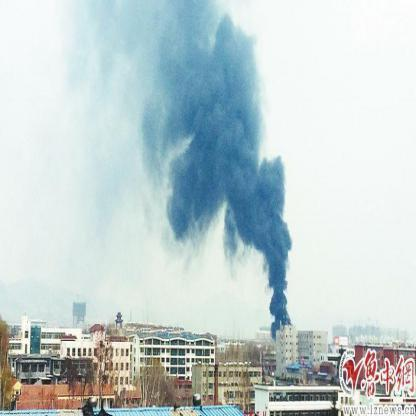smoke: (71, 0, 261, 144), (147, 144, 266, 245), (266, 158, 290, 328)
